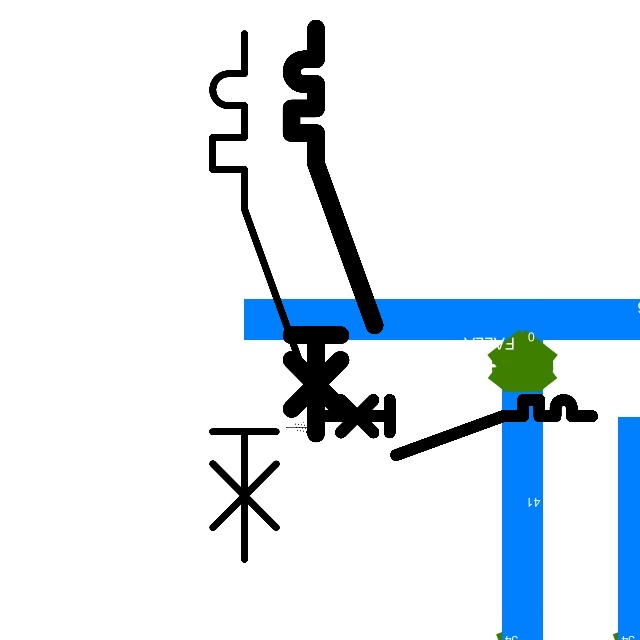interruptor_termomagnetico: (199, 20, 334, 572), (281, 18, 385, 443), (317, 393, 598, 462)
